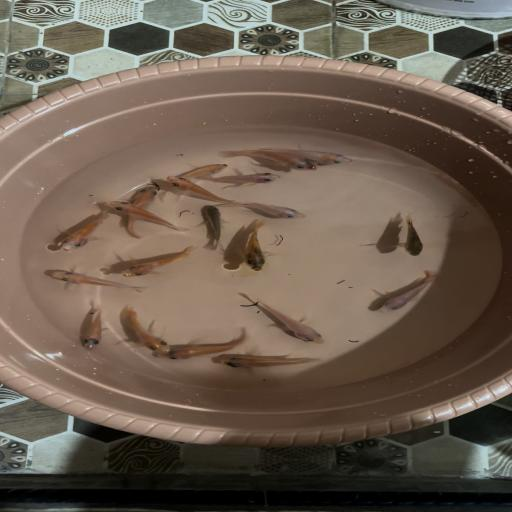nila: (238, 290, 338, 345), (148, 324, 254, 367), (363, 265, 445, 319), (123, 243, 201, 282), (222, 147, 326, 176), (102, 200, 190, 234), (46, 268, 152, 296), (264, 141, 368, 169), (119, 180, 165, 242), (118, 304, 175, 354), (206, 350, 324, 374), (52, 211, 114, 254), (233, 219, 276, 275), (158, 174, 234, 204), (217, 201, 315, 223), (77, 300, 115, 356), (396, 212, 434, 262), (190, 203, 229, 250), (167, 159, 230, 181), (202, 170, 290, 185)
